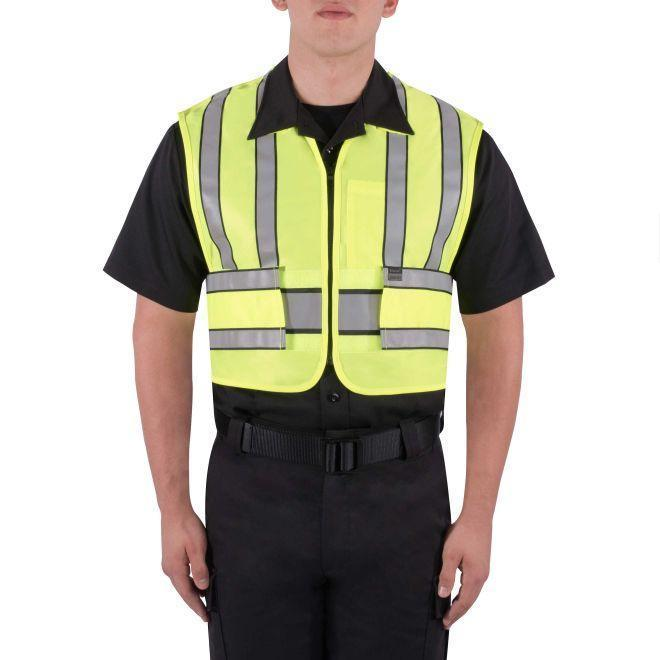vest: (173, 73, 484, 404)
